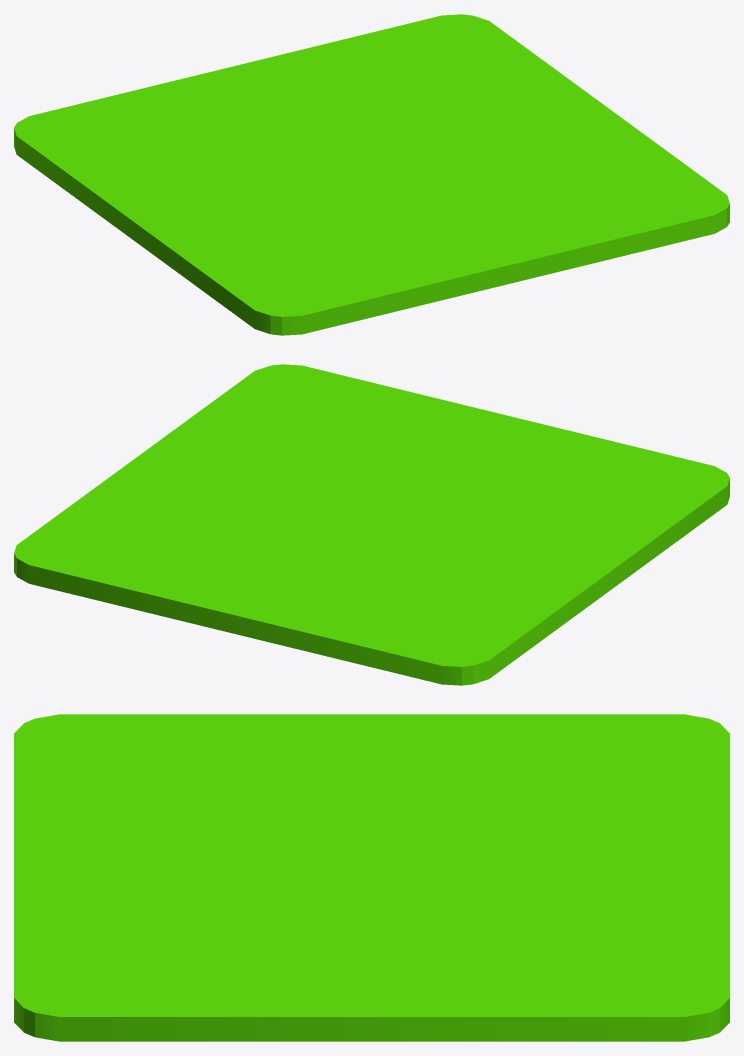
File: Mod_MechaPlatform.fbx
The picture shows the model from 3 angles, top to bottom: view 1: azimuth 30°, elevation 25°; view 2: azimuth 150°, elevation 25°; view 3: azimuth 270°, elevation 25°; orthographic projection. The views are drawn at different scales.
Parts seen in each view (by area): view 1: Mod_MechaPlatform; view 2: Mod_MechaPlatform; view 3: Mod_MechaPlatform.
Boxes of the visible parts, <box> form: Mod_MechaPlatform: <box>14,14,729,335</box>; Mod_MechaPlatform: <box>14,364,729,685</box>; Mod_MechaPlatform: <box>14,714,729,1041</box>.
Bounding box in the file's own units: 793 × 109 × 793.
